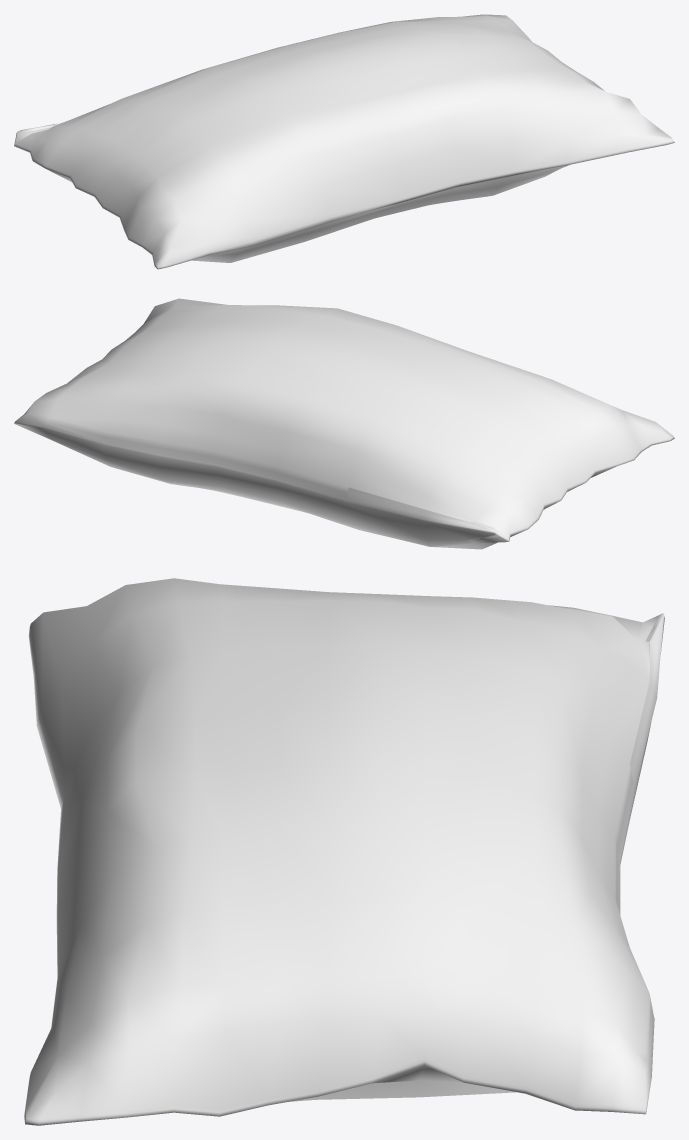
File: Pillow 1.FBX
3 views of the same model, one above another, from view 1: azimuth 30°, elevation 25°; view 2: azimuth 150°, elevation 25°; view 3: azimuth 270°, elevation 25° (orthographic). The views are drawn at different scales.
Parts seen in each view (by area): view 1: Pillow 1; view 2: Pillow 1; view 3: Pillow 1.
Boxes of the visible parts, x1=… form: Pillow 1: x1=14, y1=14, x2=674, y2=269; Pillow 1: x1=14, y1=298, x2=674, y2=549; Pillow 1: x1=24, y1=578, x2=664, y2=1125.
Size of the model in its own units: 67.5 by 18.47 by 36.43.
